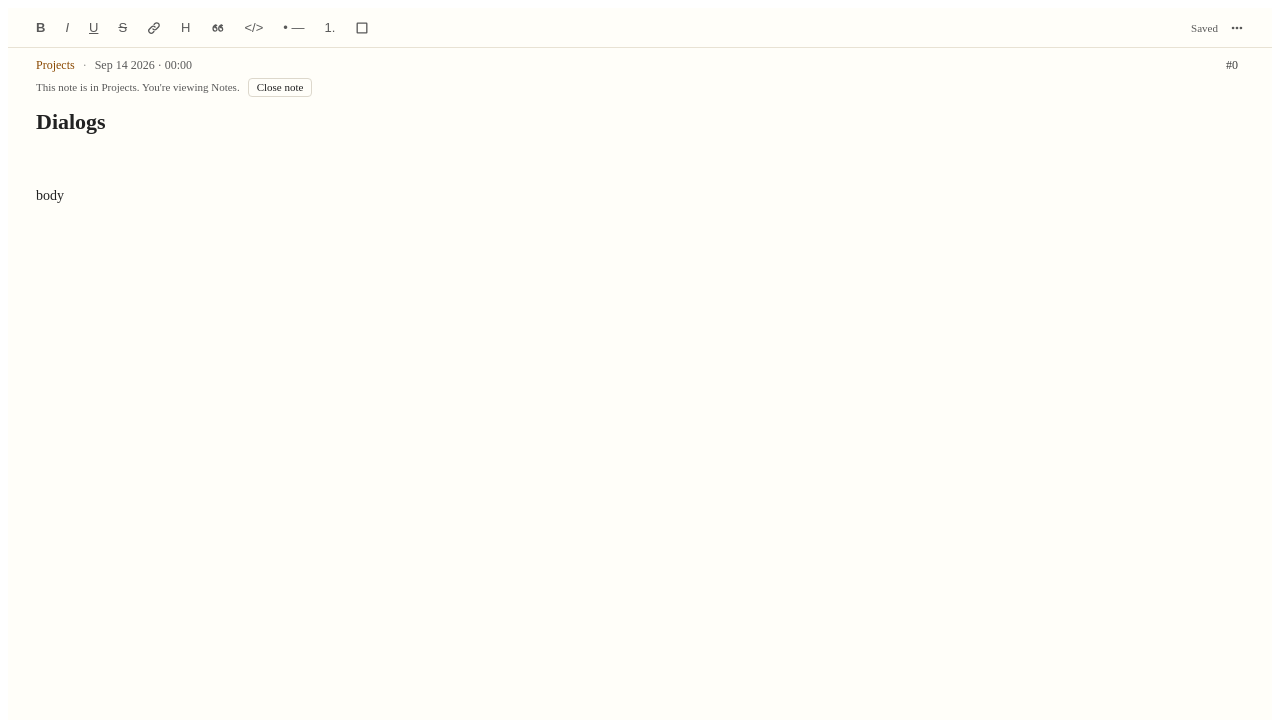
Test: keyboard-shortcuts cheat sheet › Esc closes it
The image size is (1280, 720).
Click the button named "Note actions" at (1237, 28), box [1222,16,1252,38]
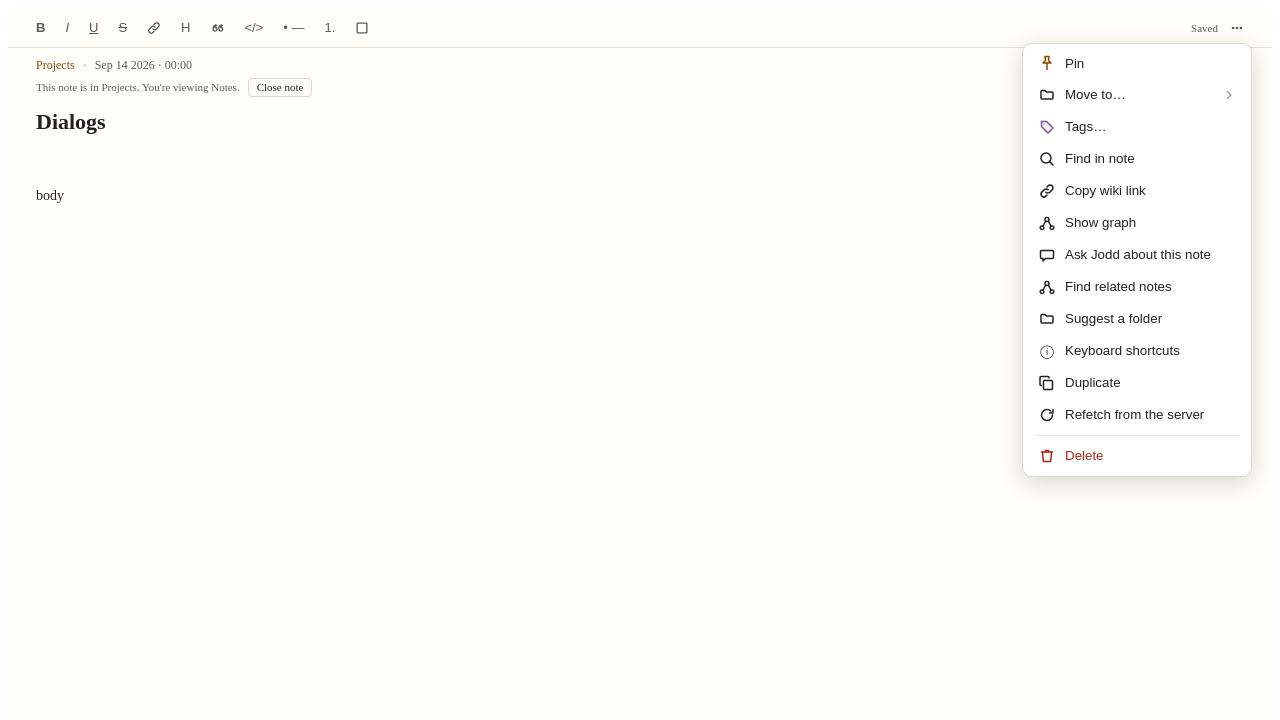
Click the menu item "ⓘ Keyboard shortcuts" at (1137, 351), box [1027,335,1247,367]
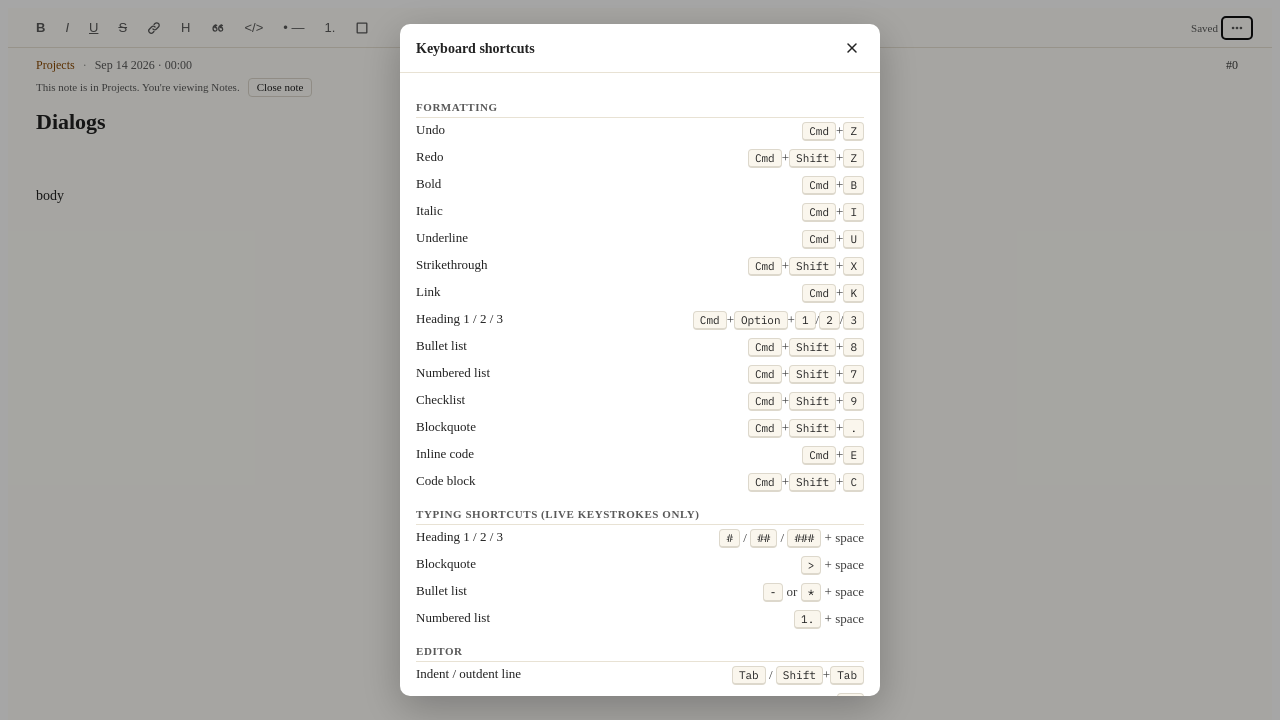
Press Escape in the dialog
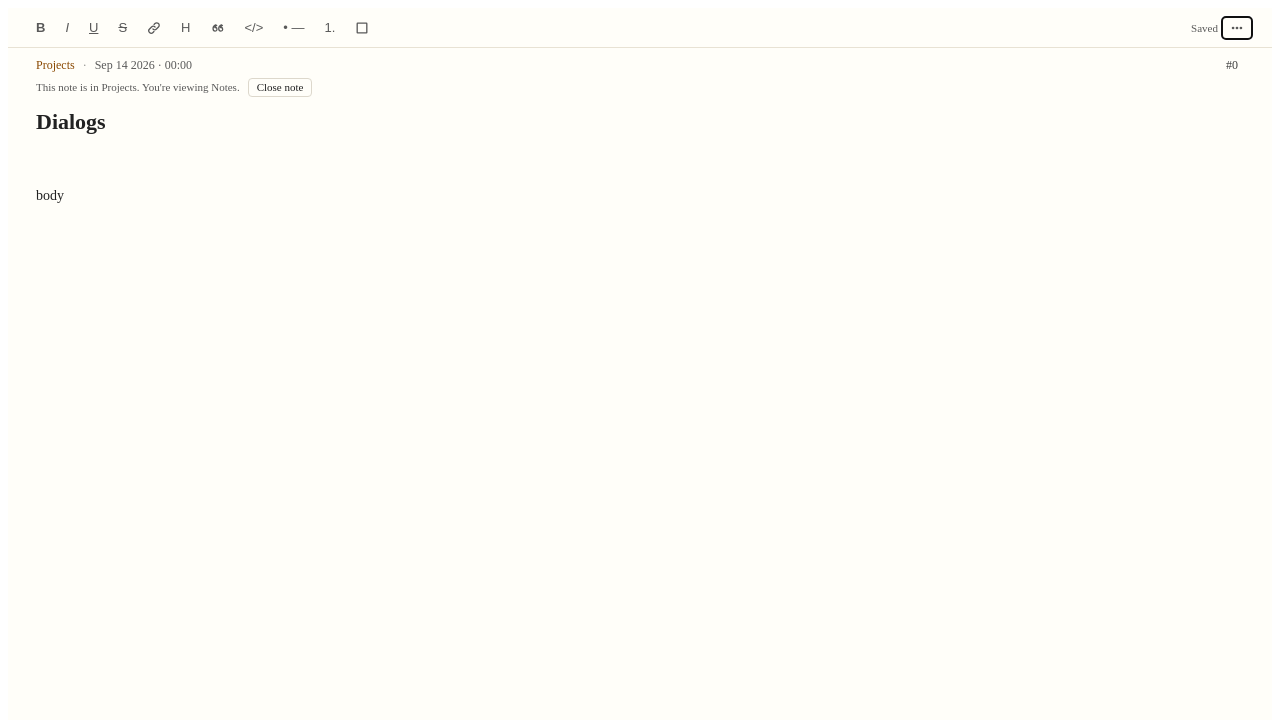
Expected: the dialog is gone
